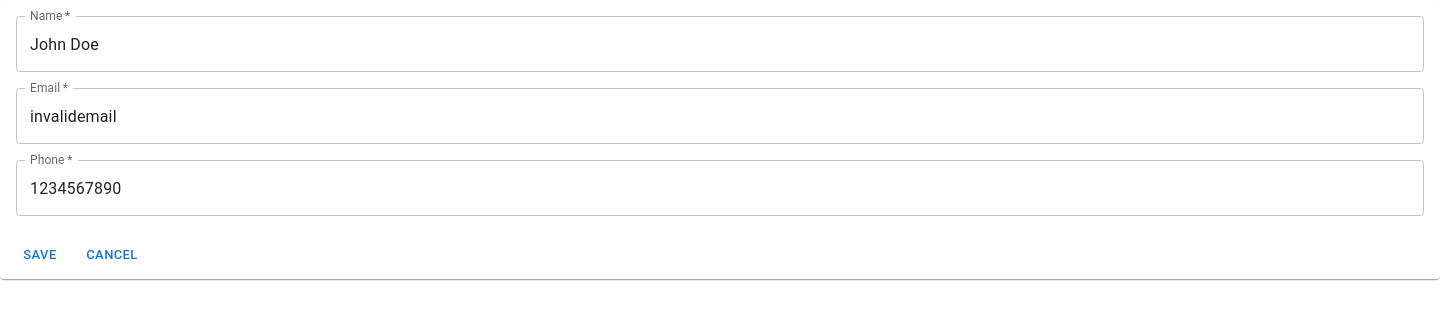
Scenario: ProfileEditor Component › displays validation errors for invalid email
Click the button "Save" at (40,255), box x1=8 y1=240 x2=72 y2=271
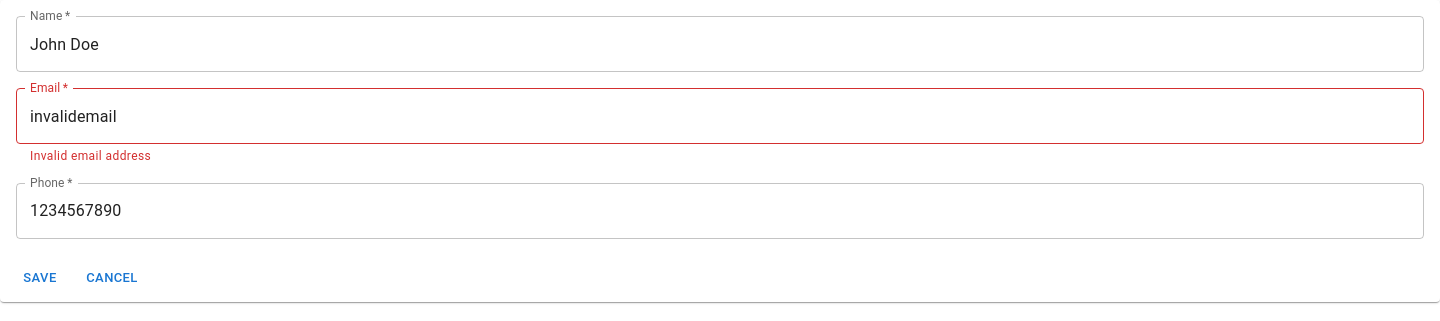
Expected: the text "Invalid email address" is shown, x1=30 y1=149 x2=151 y2=163
